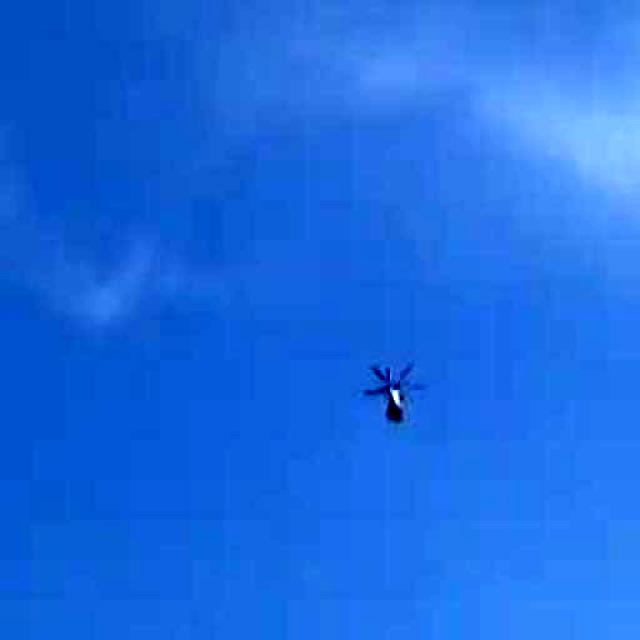drone: (350, 351, 440, 442)
